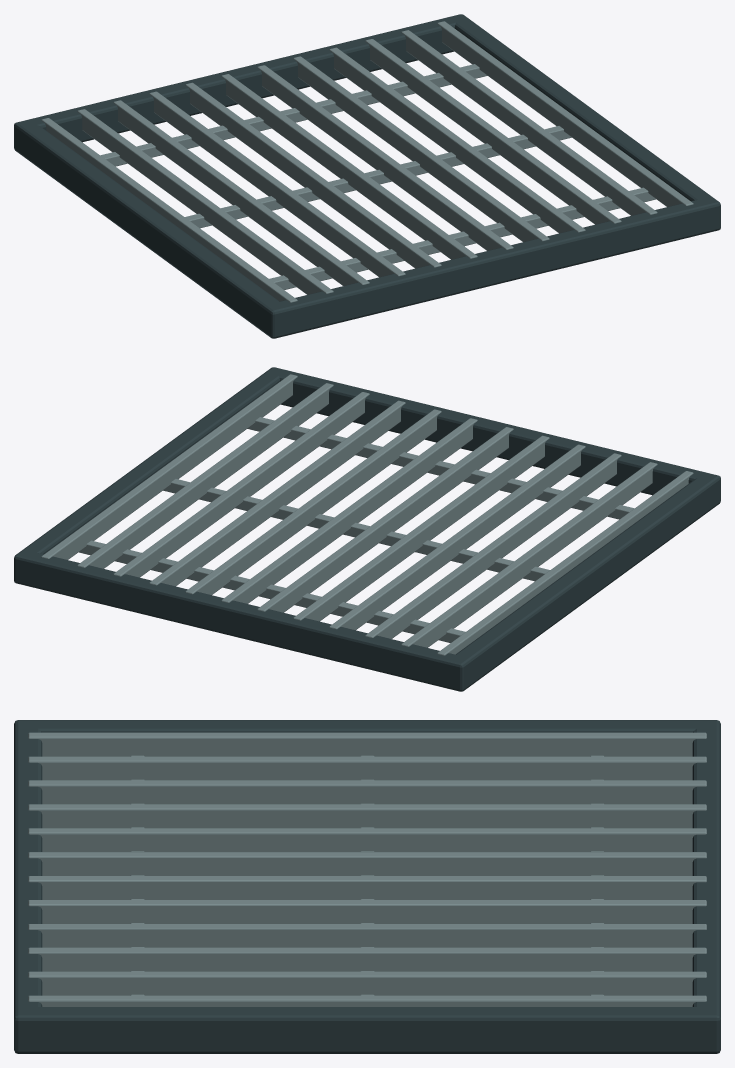
File: SM_MetalGrating_200.fbx
3 renders of one model, top to bottom at view 1: azimuth 30°, elevation 25°; view 2: azimuth 150°, elevation 25°; view 3: azimuth 270°, elevation 25°, orthographic. The views are drawn at different scales.
Parts seen in each view (by area): view 1: SM_MetalGrating_200; view 2: SM_MetalGrating_200; view 3: SM_MetalGrating_200.
Part boxes in pixels (<box>): SM_MetalGrating_200: <box>14,14,720,338</box>; SM_MetalGrating_200: <box>14,367,720,691</box>; SM_MetalGrating_200: <box>14,720,720,1053</box>.
Size of what is drawn, in the model's own units: 2 by 2 by 0.125.
